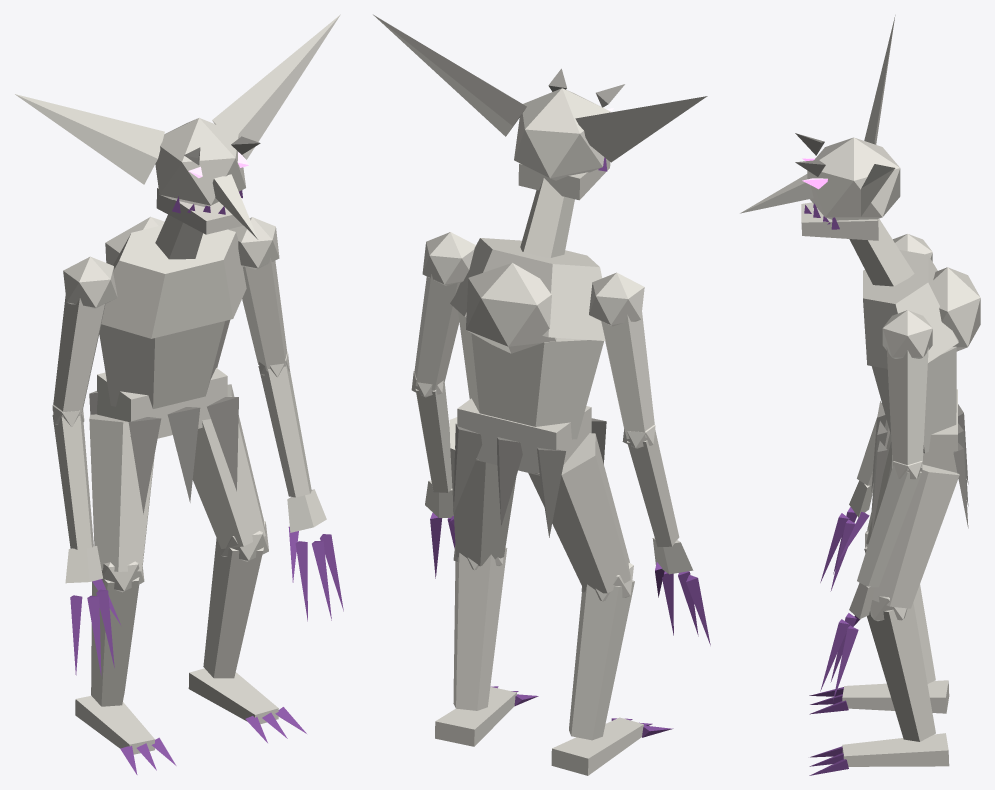
The model's file is scrap_goblin.glb.
3 renders of one model, left to right at view 1: azimuth 30°, elevation 25°; view 2: azimuth 150°, elevation 25°; view 3: azimuth 270°, elevation 25°, orthographic. The views are drawn at different scales.
Visible parts, largest first — view 1: Scrap_Goblin; view 2: Scrap_Goblin; view 3: Scrap_Goblin.
Part boxes in pixels (x1,y1,x2,y2): Scrap_Goblin: (15,14,343,774); Scrap_Goblin: (373,14,710,775); Scrap_Goblin: (740,15,980,775).
Bounding box in the file's own units: 0.461 × 0.9 × 0.3052.
